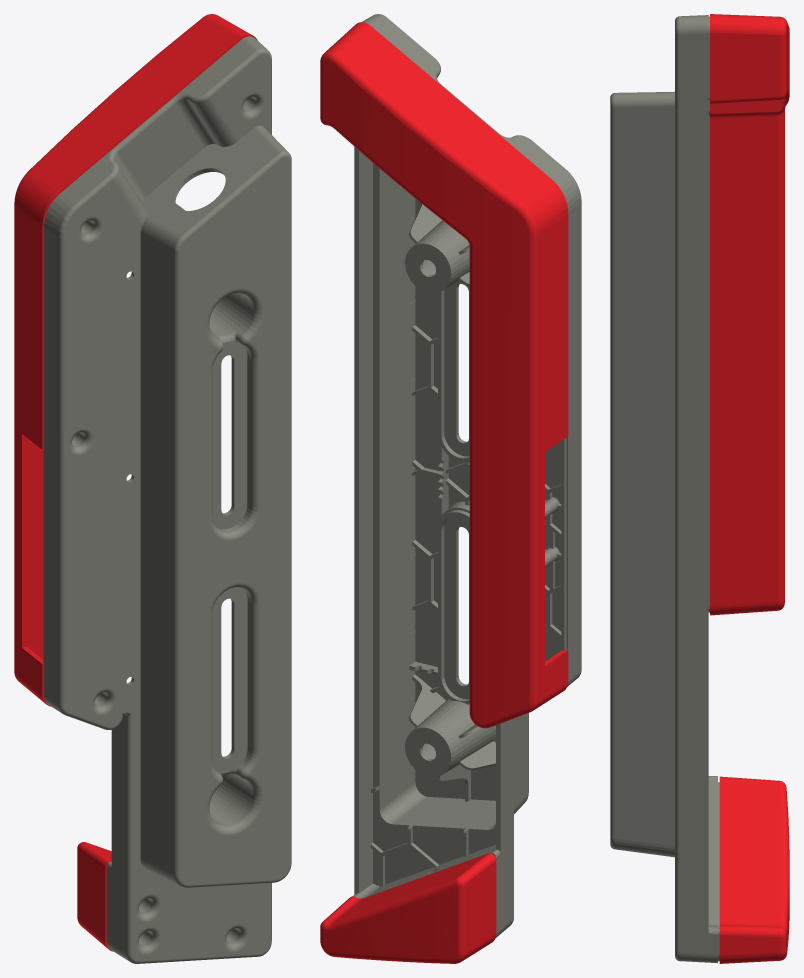
The model's file is asset.gltf.
3 views of the same model, side by side, from view 1: azimuth 30°, elevation 25°; view 2: azimuth 150°, elevation 25°; view 3: azimuth 270°, elevation 25° (orthographic). The views are drawn at different scales.
Bounding box in the file's own units: 0.1161 × 0.4685 × 0.0803.
